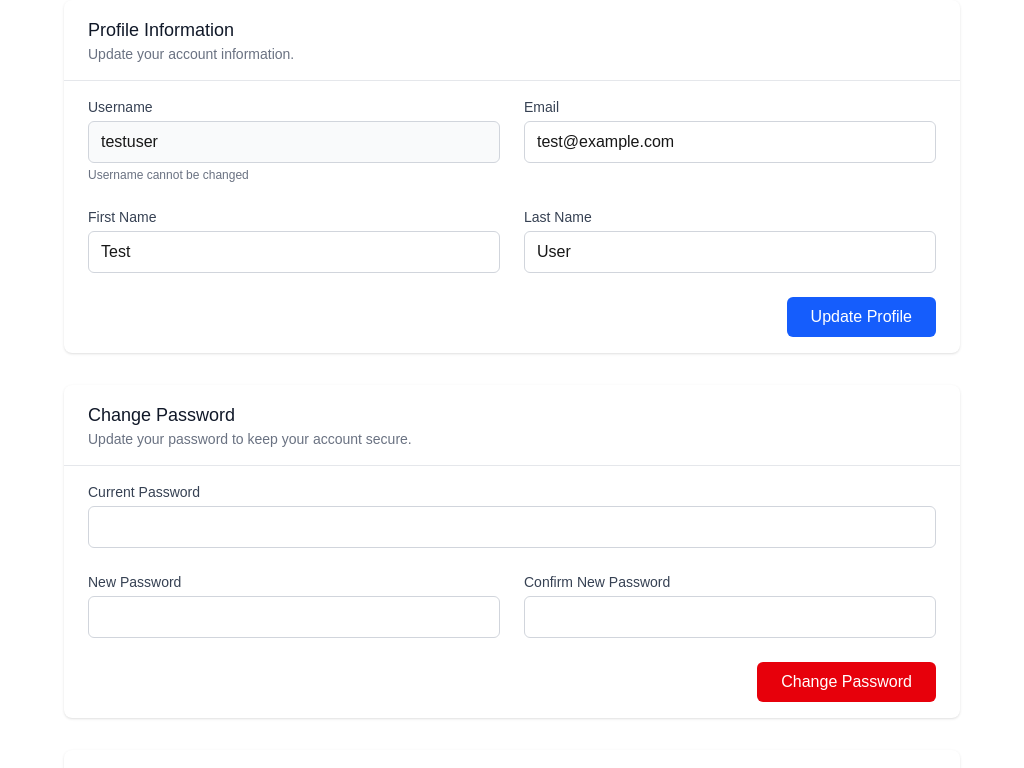
Scenario: ProfilePage Component › Password Change Form › should show error when passwords don't match
Type "oldpassword" into the password field below "Current Password" at coordinates (512, 527), box x1=88 y1=506 x2=936 y2=548
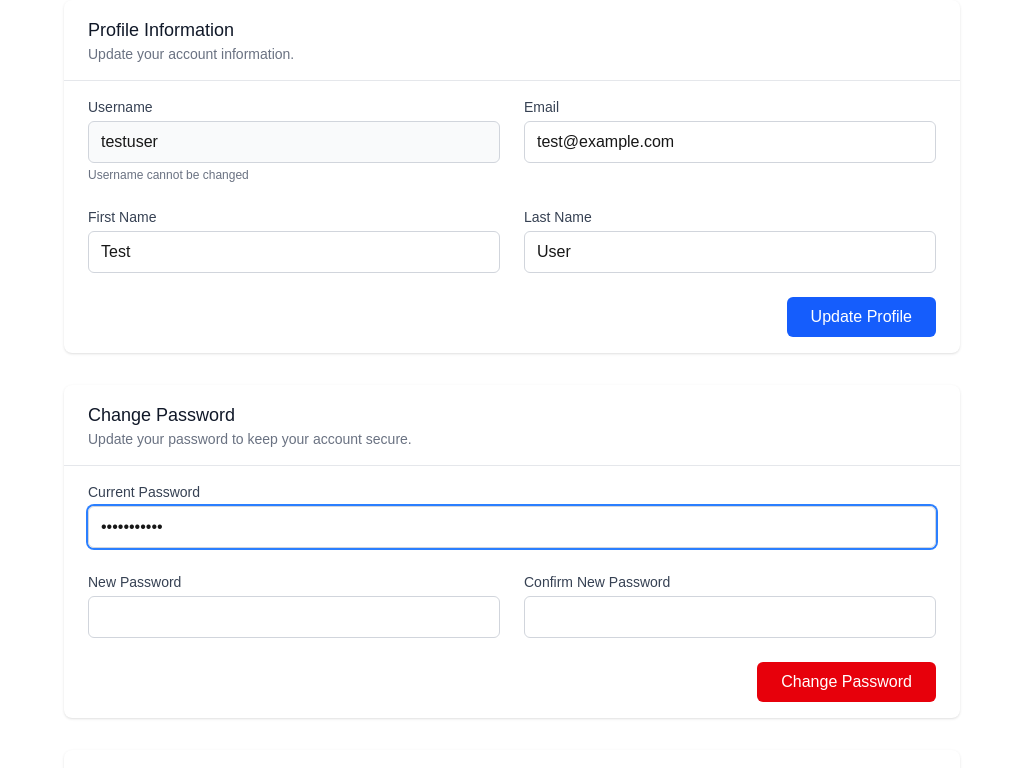
Type "newpassword" into the 2nd password field at coordinates (294, 617), box x1=88 y1=596 x2=500 y2=638
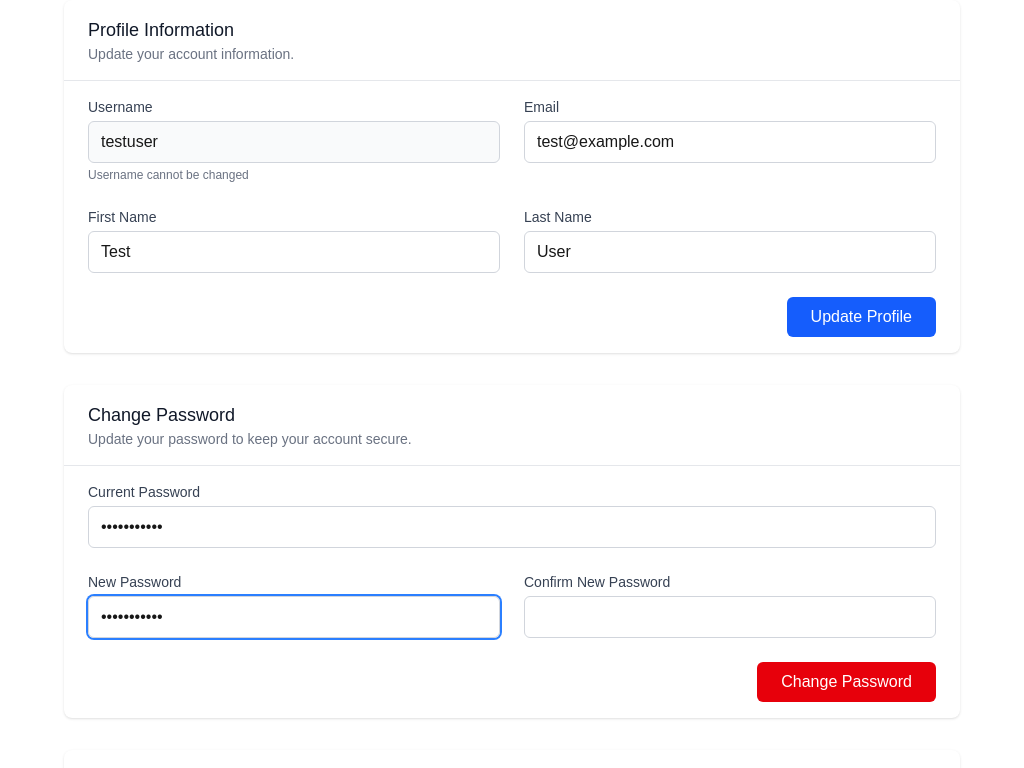
Type "differentpassword" into the password field below "Confirm New Password" at coordinates (730, 617), box x1=524 y1=596 x2=936 y2=638
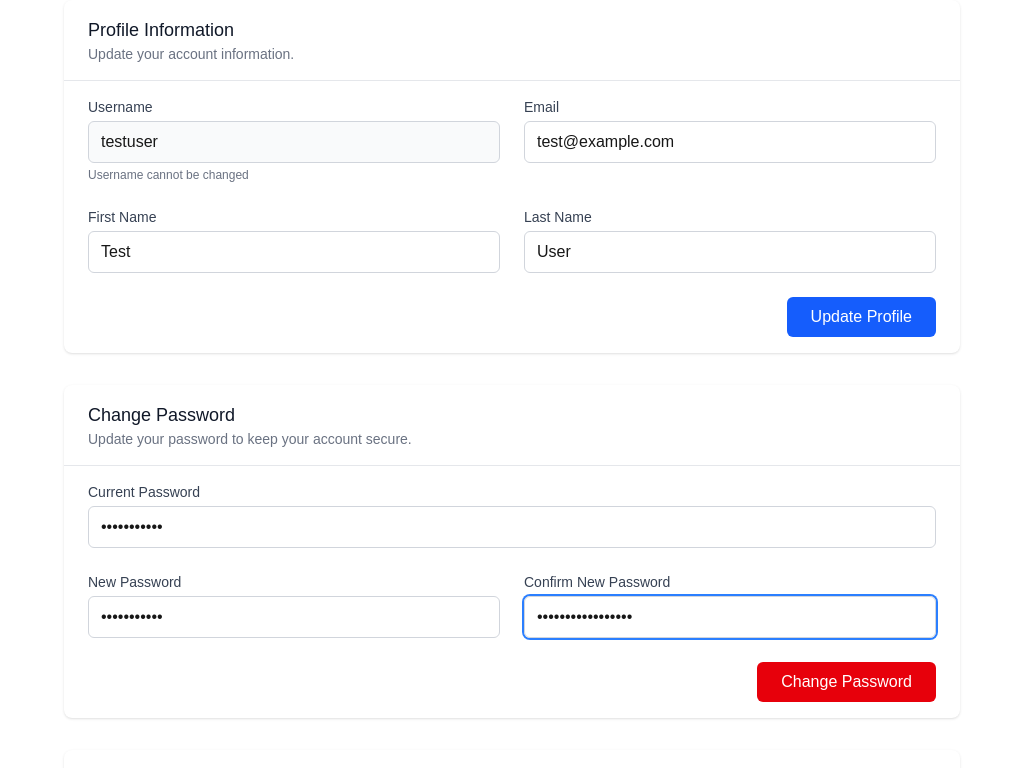
Click the button "Change Password" at coordinates (847, 682), box x1=757 y1=662 x2=936 y2=702
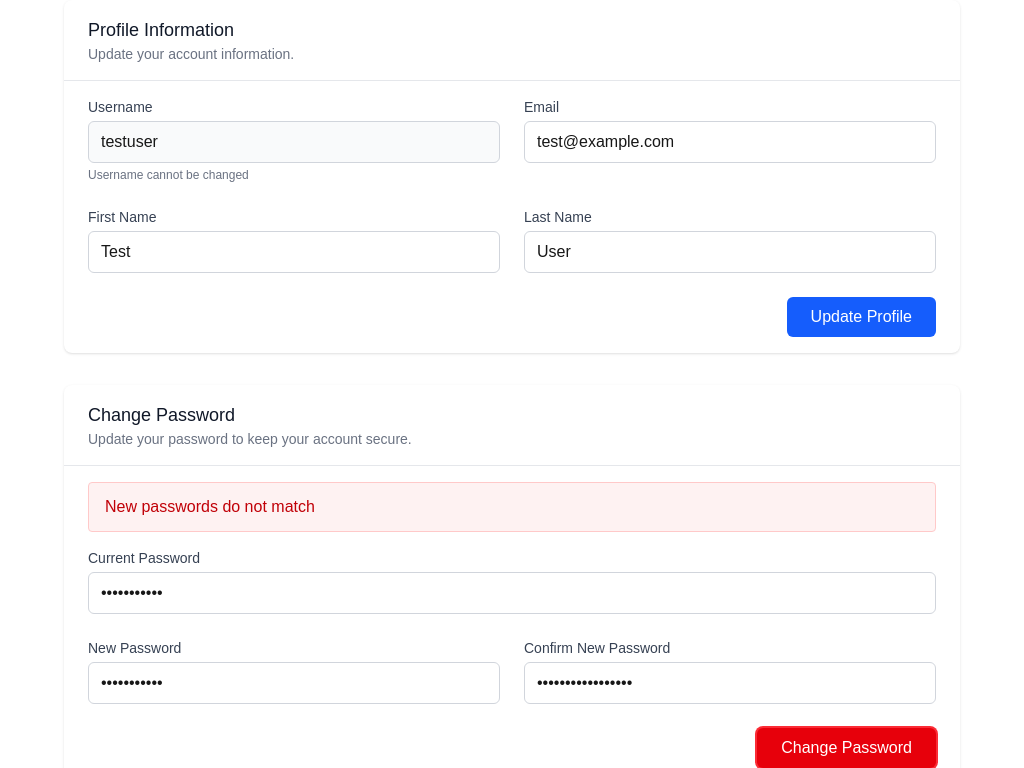
Expected: the text "New passwords do not match" is shown, x1=88 y1=482 x2=936 y2=532
